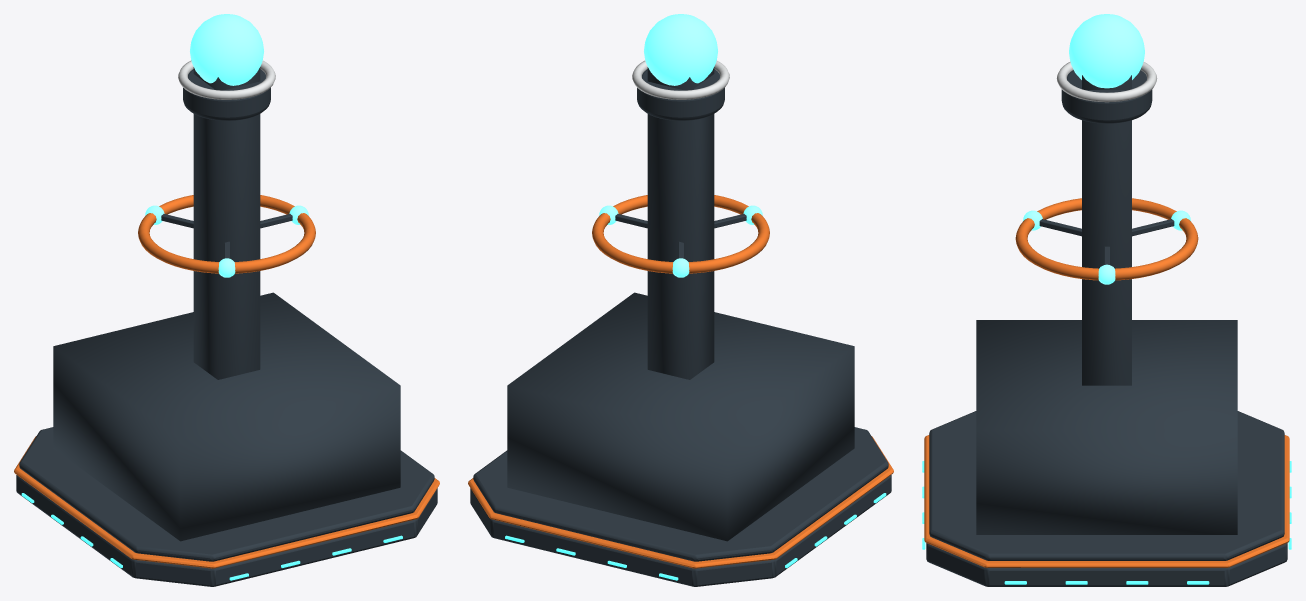
The model's file is shield.glb.
3 views of the same model, side by side, from view 1: azimuth 30°, elevation 25°; view 2: azimuth 150°, elevation 25°; view 3: azimuth 270°, elevation 25° (orthographic). The views are drawn at different scales.
Visible parts, largest first — view 1: COL_body, COL_mast, deck, plinth, emitter orb, plinth lip, emitter ring, emitter cup, emitter lip; view 2: COL_body, COL_mast, deck, plinth, emitter orb, plinth lip, emitter ring, emitter cup, emitter lip; view 3: COL_body, deck, COL_mast, plinth, emitter orb, plinth lip, emitter ring, emitter cup, emitter lip.
Part boxes in pixels (x1,y1,x2,y2): COL_body: (53,292,400,541); COL_mast: (193,67,260,379); deck: (19,427,434,561); plinth: (16,475,437,586); emitter orb: (190,14,263,85); plinth lip: (14,436,439,568); emitter ring: (138,195,315,273); emitter cup: (183,69,270,120); emitter lip: (178,60,275,99); COL_body: (507,292,854,541); COL_mast: (647,67,714,379); deck: (473,427,888,561); plinth: (470,475,891,586); emitter orb: (644,14,717,85); plinth lip: (468,436,893,568); emitter ring: (592,195,769,273); emitter cup: (637,69,724,120); emitter lip: (632,60,729,99); COL_body: (976,320,1237,534); deck: (929,411,1284,560); COL_mast: (1082,75,1131,385); plinth: (926,543,1287,586); emitter orb: (1069,14,1144,88); plinth lip: (924,435,1289,567); emitter ring: (1015,198,1198,280); emitter cup: (1061,70,1152,123); emitter lip: (1056,62,1157,102).
Size of the model in its own units: 3.68 by 5.43 by 3.68.
